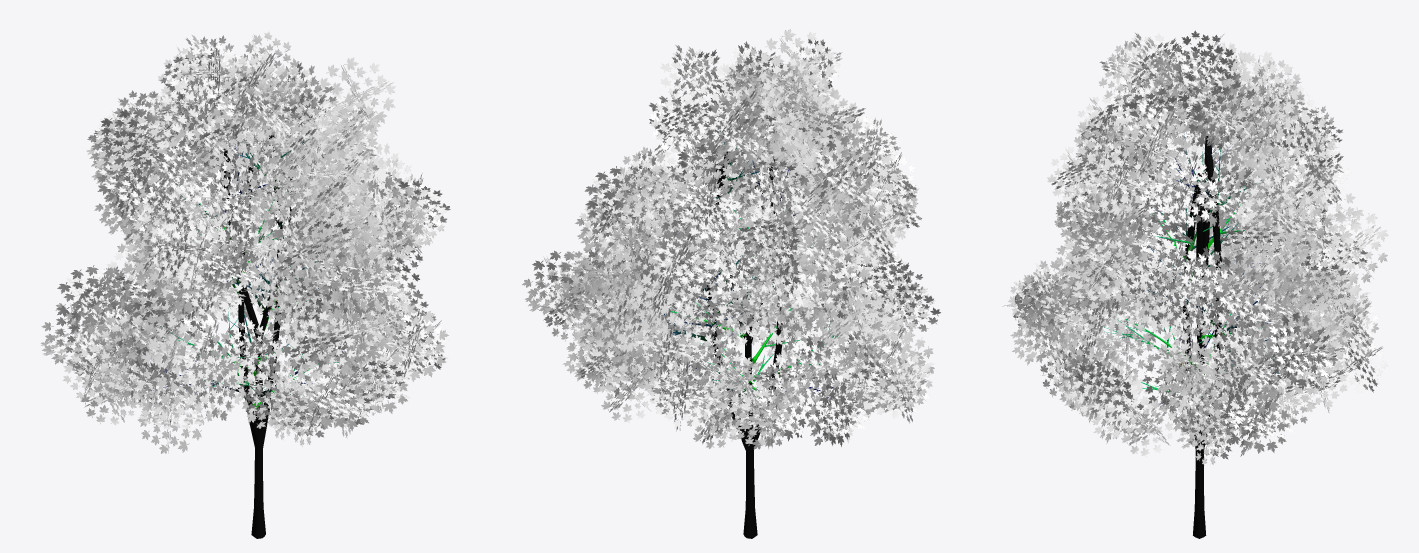
Rendered from Tree_Blender_006_SugarMaple.fbx.
The picture shows the model from 3 angles, left to right: view 1: azimuth 30°, elevation 25°; view 2: azimuth 150°, elevation 25°; view 3: azimuth 270°, elevation 25°; orthographic projection. The views are drawn at different scales.
Visible parts, largest first — view 1: leafclumpatlas_maple_1, _0; view 2: leafclumpatlas_maple_1, _0; view 3: leafclumpatlas_maple_1, _0.
Part boxes in pixels (x1,y1,x2,y2): leafclumpatlas_maple_1: [40, 31, 450, 453]; _0: [153, 129, 344, 538]; leafclumpatlas_maple_1: [522, 29, 940, 449]; _0: [637, 130, 837, 538]; leafclumpatlas_maple_1: [1002, 30, 1388, 465]; _0: [1104, 134, 1289, 538].
Bounding box in the file's own units: 1191 × 1494 × 1129.
